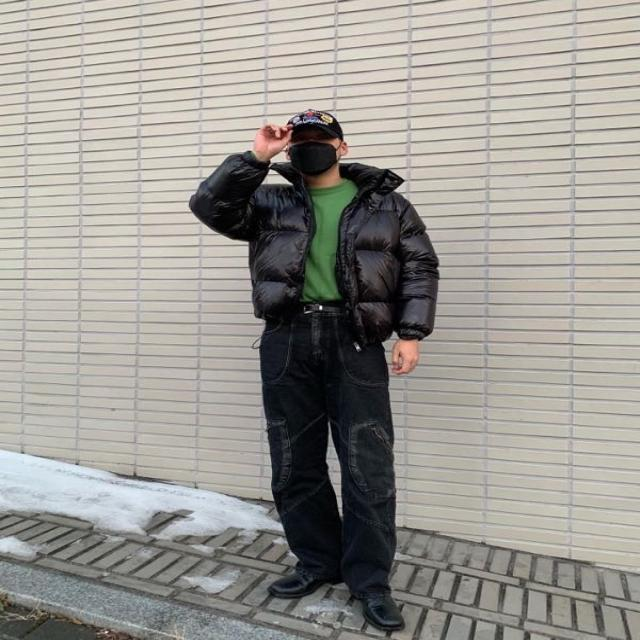denimpants: (261, 302, 392, 601)
padding: (188, 151, 444, 346)
sweater: (294, 180, 358, 298)
